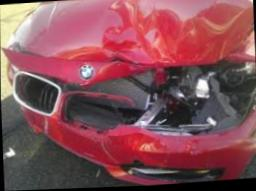Bonnet: (11, 0, 255, 64)
Bumper: (2, 44, 256, 186)
Light: (128, 62, 256, 132)
